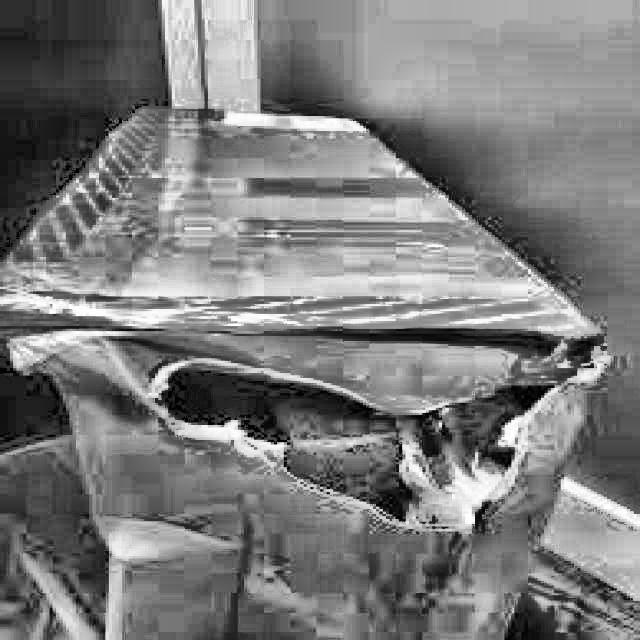box: (0, 96, 618, 640)
hole: (150, 340, 601, 537)
